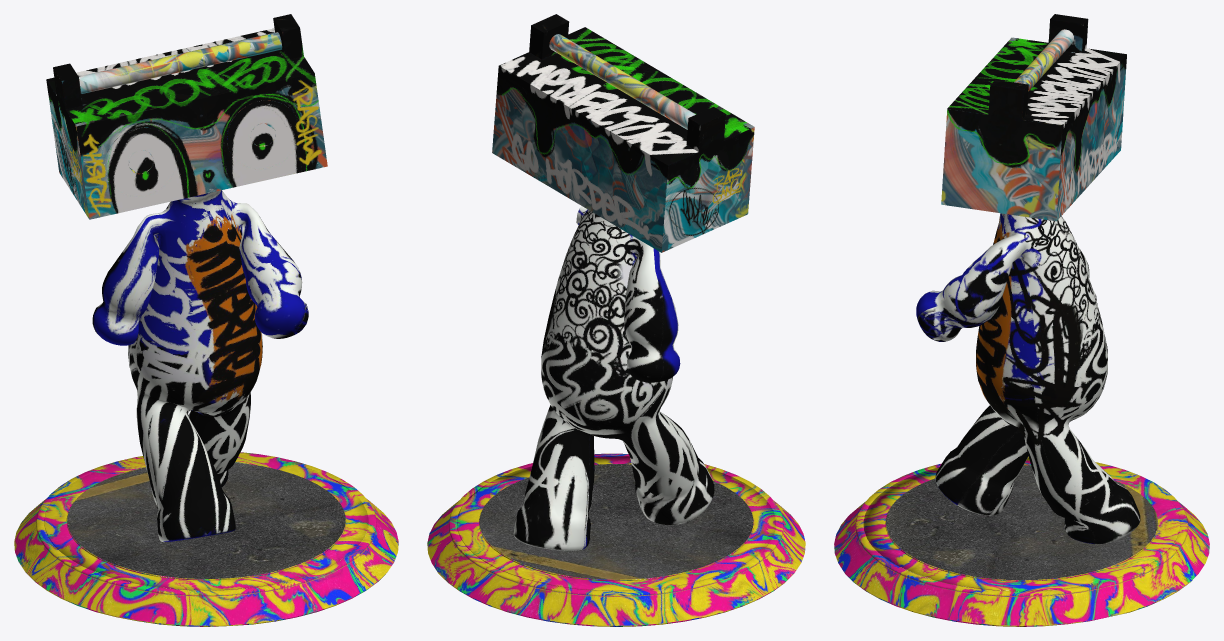
The picture shows the model from 3 angles, left to right: view 1: azimuth 30°, elevation 25°; view 2: azimuth 150°, elevation 25°; view 3: azimuth 270°, elevation 25°; orthographic projection. The views are drawn at different scales.
Visible parts, largest first — view 1: BBody; view 2: BBody; view 3: BBody.
Part boxes in pixels (x1,y1,x2,y2): BBody: (14, 14, 398, 626); BBody: (427, 14, 805, 626); BBody: (834, 14, 1209, 626).
Size of the model in its own units: 1.45 by 2.12 by 1.45.
4 materials, 4 textured.
